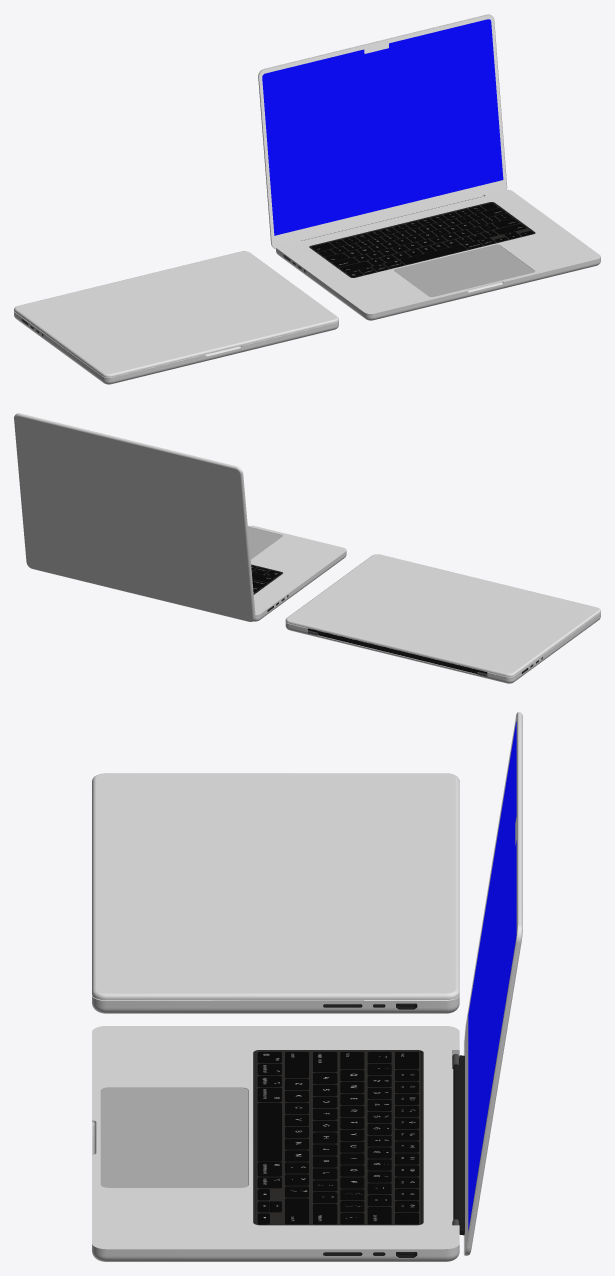
Rendered from laptop.glb.
3 renders of one model, top to bottom at view 1: azimuth 30°, elevation 25°; view 2: azimuth 150°, elevation 25°; view 3: azimuth 270°, elevation 25°, orthographic. The views are drawn at different scales.
Parts seen in each view (by area): view 1: Laptop_Open_Plane.001, Laptop_Closed_Plane.003; view 2: Laptop_Open_Plane.001, Laptop_Closed_Plane.003; view 3: Laptop_Open_Plane.001, Laptop_Closed_Plane.003.
Boxes of the visible parts, x1,y1,x2,y2 form: Laptop_Open_Plane.001: (258,14,600,320); Laptop_Closed_Plane.003: (14,251,338,384); Laptop_Open_Plane.001: (14,413,346,621); Laptop_Closed_Plane.003: (285,554,600,683); Laptop_Open_Plane.001: (92,712,522,1261); Laptop_Closed_Plane.003: (92,773,459,1013).
Size of the model in its own units: 0.6416 by 0.2138 by 0.248.
Materials: 20 (4 with a texture image).
